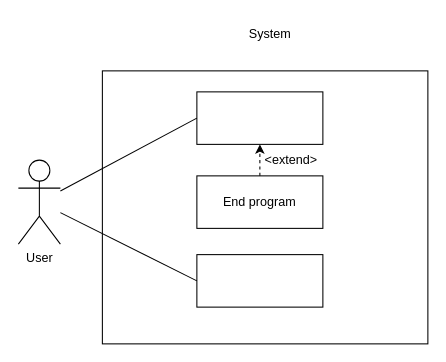
Image size: 446x362. Some labels were removed from this diagram. Each missing label, with the centre of its shape:
"Configure settings" belongs at (x=259, y=280).
"Play dot and boxes" belongs at (x=259, y=117).
